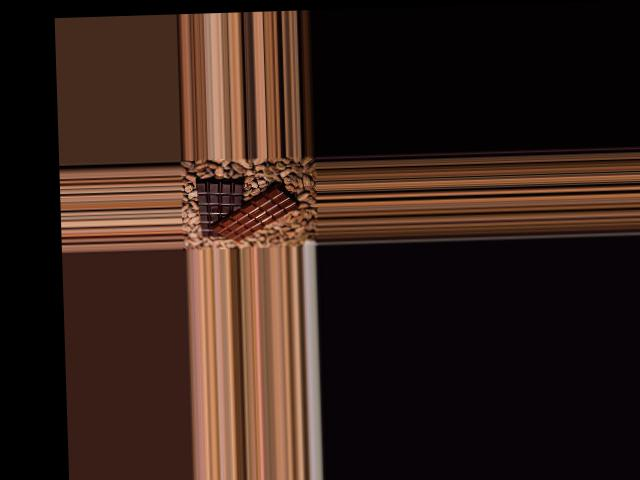chocolate: (189, 174, 245, 241)
